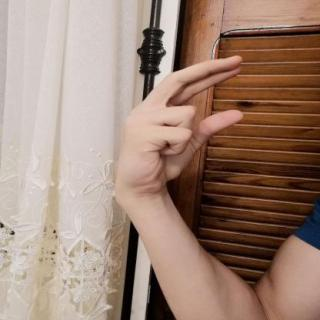DHELL: (100, 46, 258, 202)
